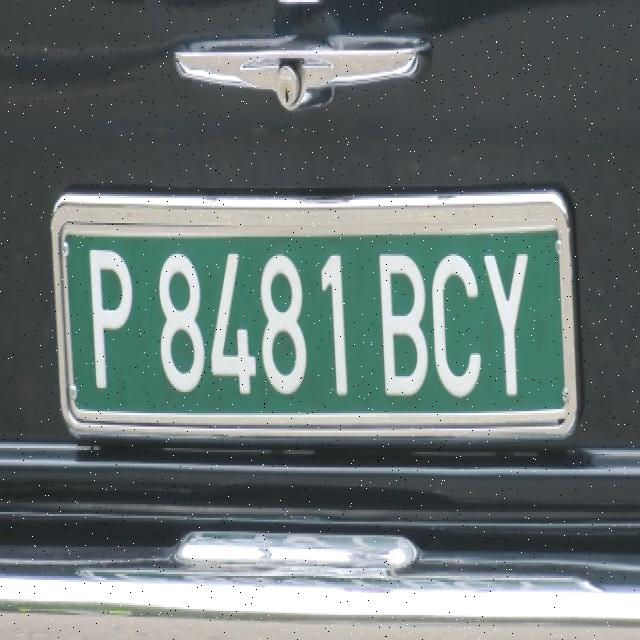licenseplate: (31, 148, 602, 485)
